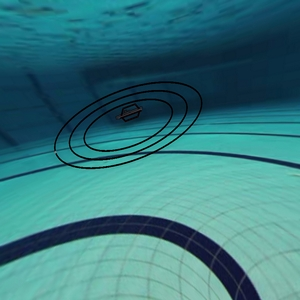circle: (54, 59, 212, 219)
submarine: (112, 100, 146, 126)
